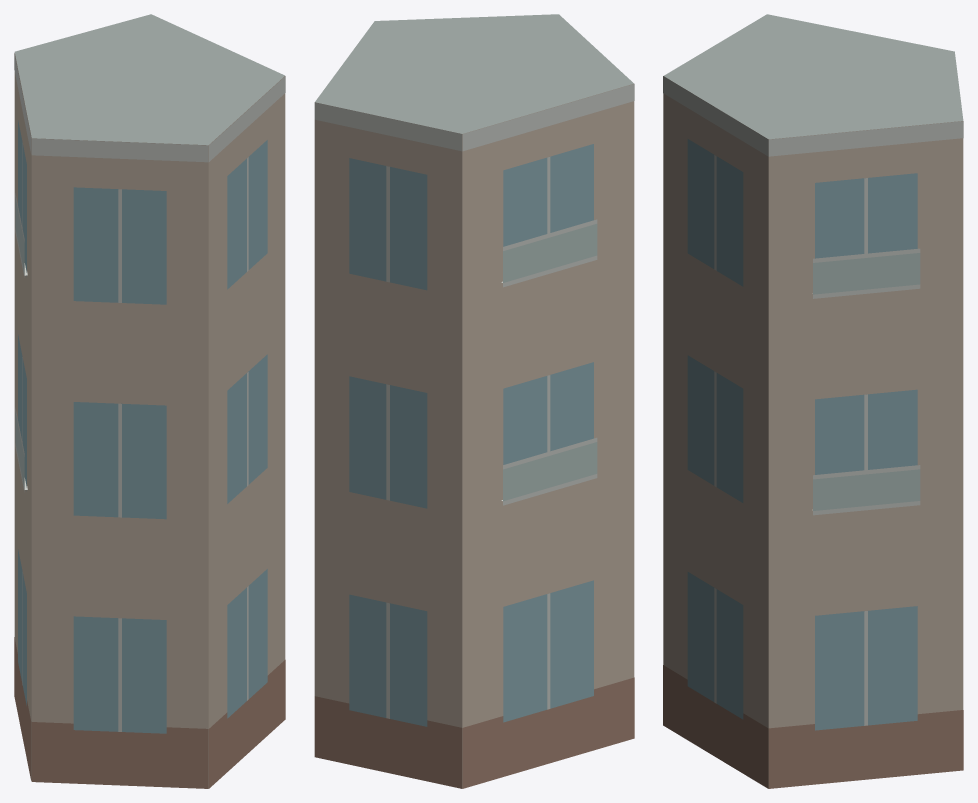
File: survey-upis-33036444.glb
3 views of the same model, side by side, from view 1: azimuth 30°, elevation 25°; view 2: azimuth 150°, elevation 25°; view 3: azimuth 270°, elevation 25° (orthographic).
Parts seen in each view (by area): view 1: survey-upis-33036444.tmp; view 2: survey-upis-33036444.tmp; view 3: survey-upis-33036444.tmp.
Boxes of the visible parts, <box> form: survey-upis-33036444.tmp: <box>14,14,285,788</box>; survey-upis-33036444.tmp: <box>314,14,634,788</box>; survey-upis-33036444.tmp: <box>663,14,963,788</box>.
Bounding box in the file's own units: 3.8 × 9.15 × 3.84.
